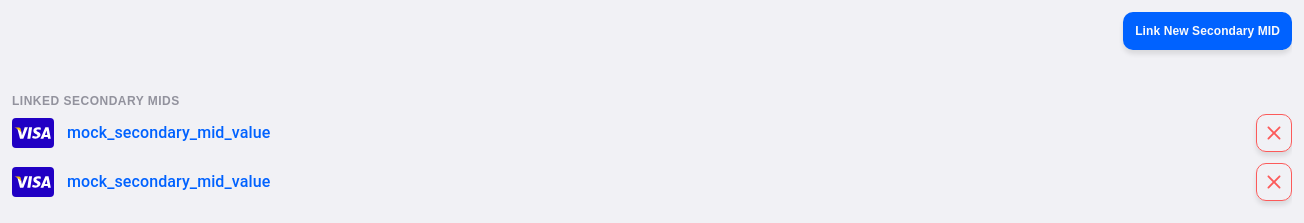
Test: SingleViewLocationSecondaryMids › should render the correct available secondary mid notification when no secondary mids are available
This screenshot has width=1304, height=223.
Click the button "Link New Secondary MID". click: (1208, 31)
box: left=1123, top=12, right=1292, bottom=50
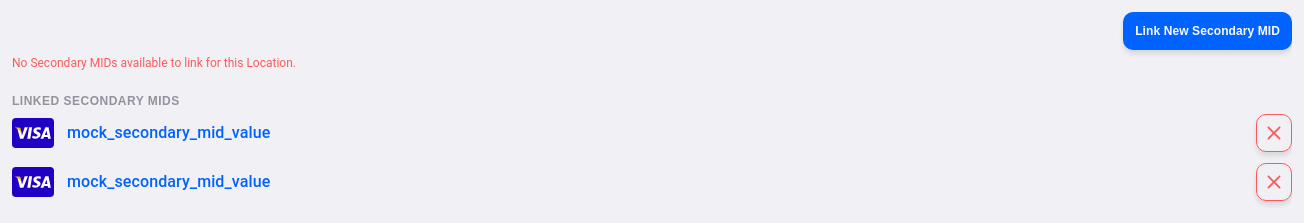
Expected: the text "No Secondary MIDs available to link for this Location." is shown, left=12, top=56, right=296, bottom=70
